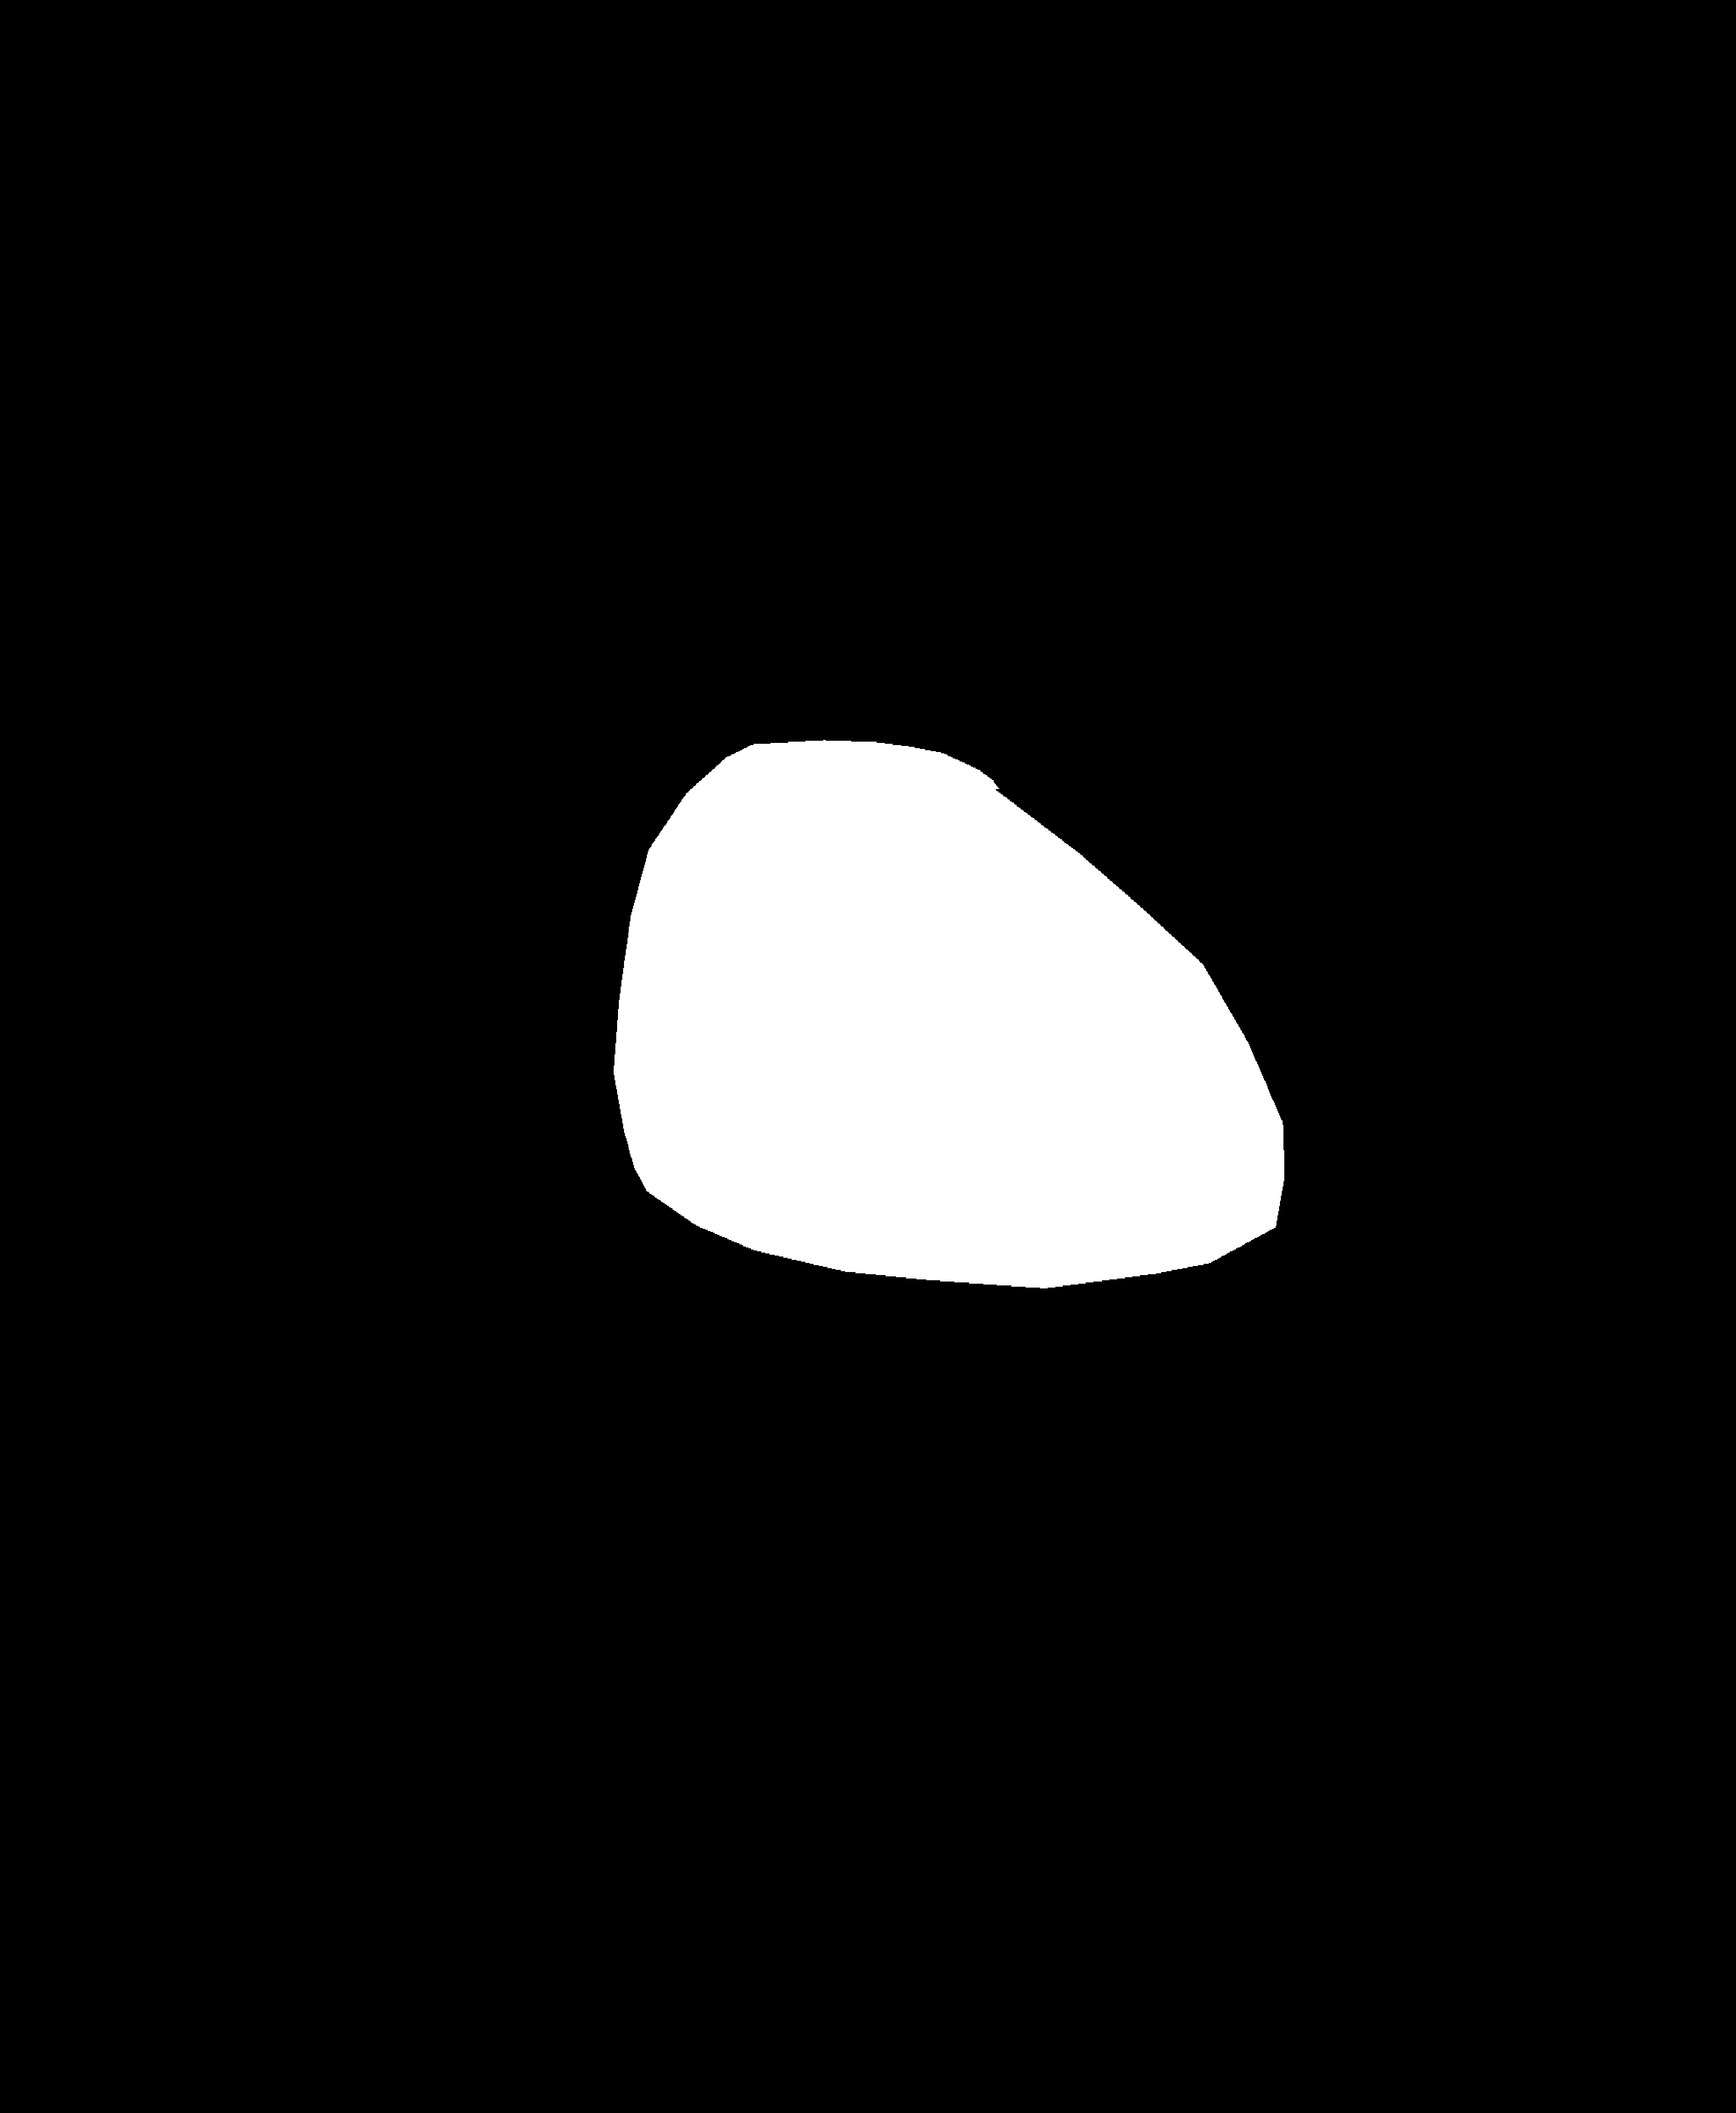heart: (611, 834, 1281, 1237)
left_lung: (163, 235, 750, 1286)
right_lung: (878, 181, 1611, 1200)
